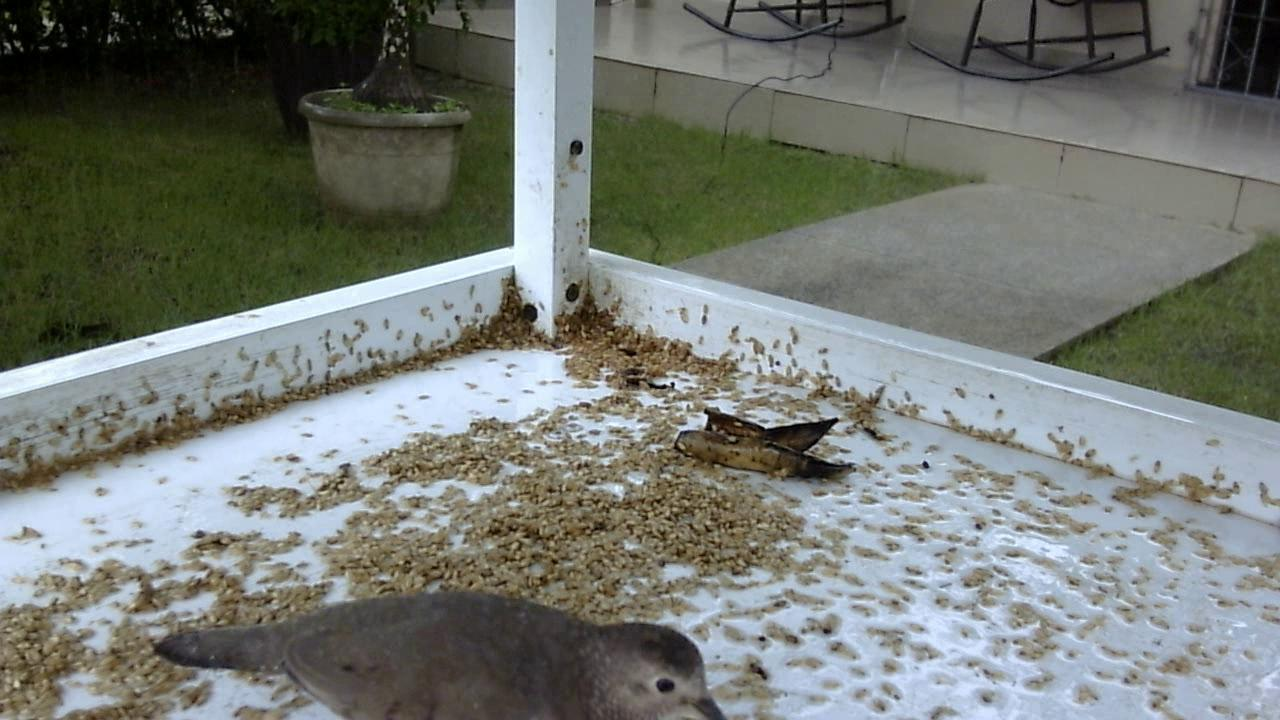rolinha: (151, 578, 742, 720)
